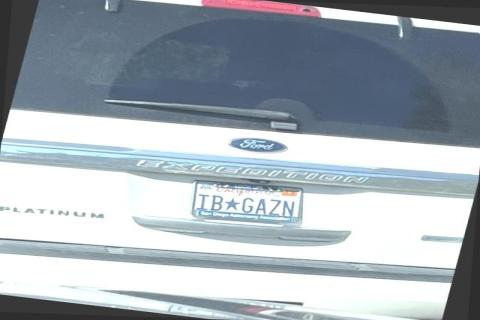LicensePlate: (187, 179, 302, 225)
